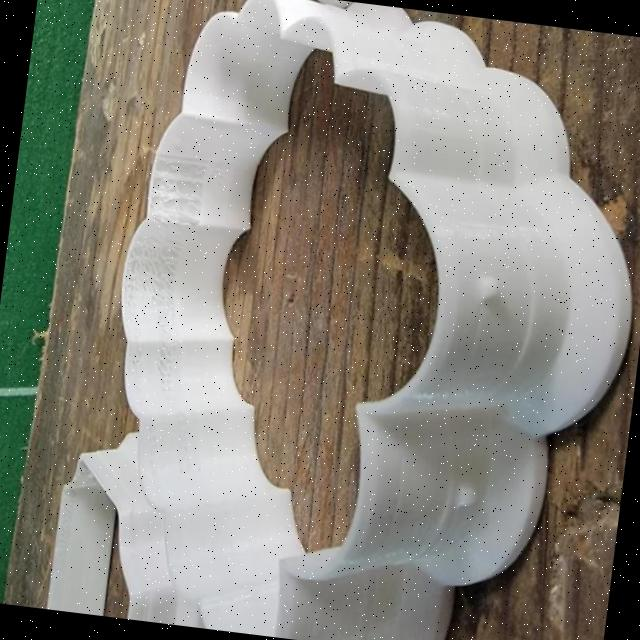blobs: (148, 157, 207, 230), (125, 249, 183, 314), (150, 345, 183, 387), (449, 476, 482, 512), (472, 272, 506, 304)
